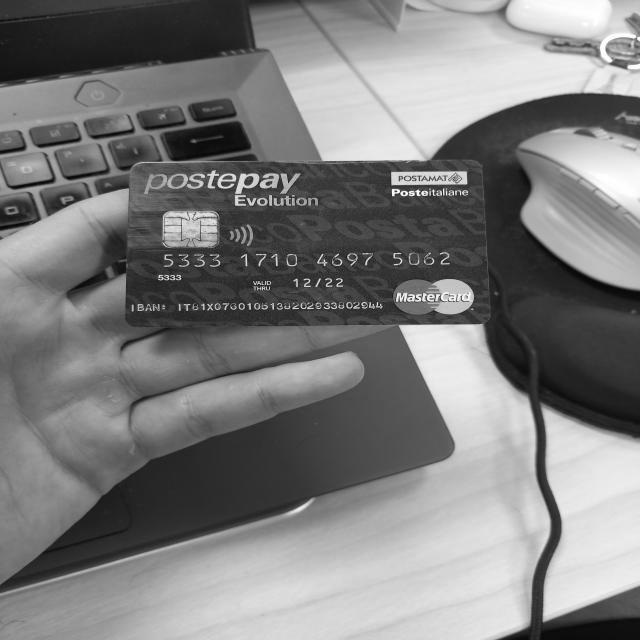card: (124, 160, 496, 328)
